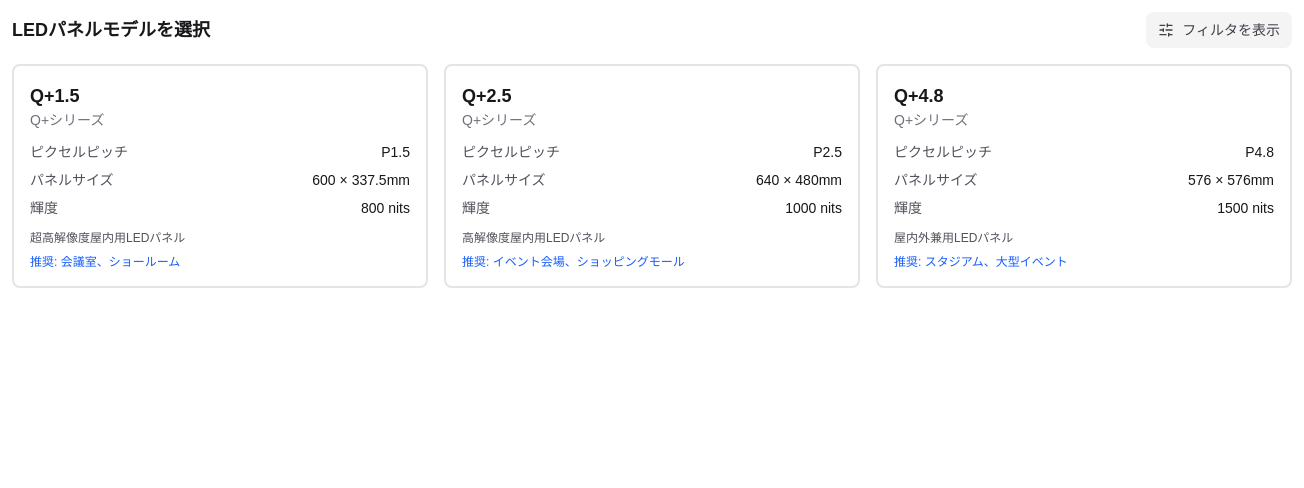
PanelSelector › Search functionality › should filter panels by model number
The image size is (1304, 488).
# Show filters
Click the button "フィルタを表示" at (1219, 30), box 1146,12 -> 1292,48
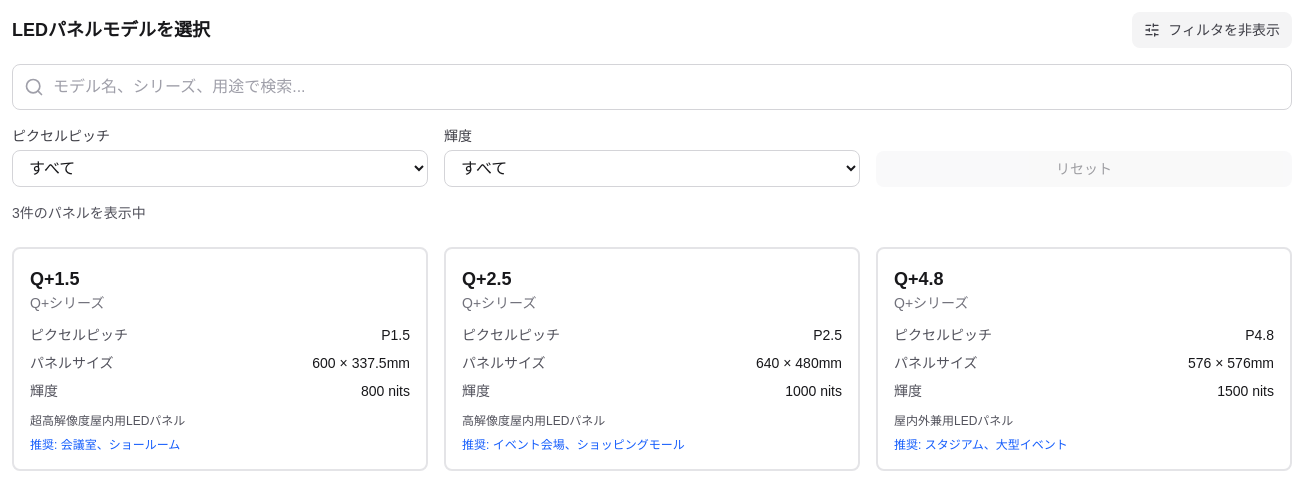
Type "1.5" into the field with placeholder "モデル名、シリーズ、用途で検索..." at (652, 87), box 12,64 -> 1292,110
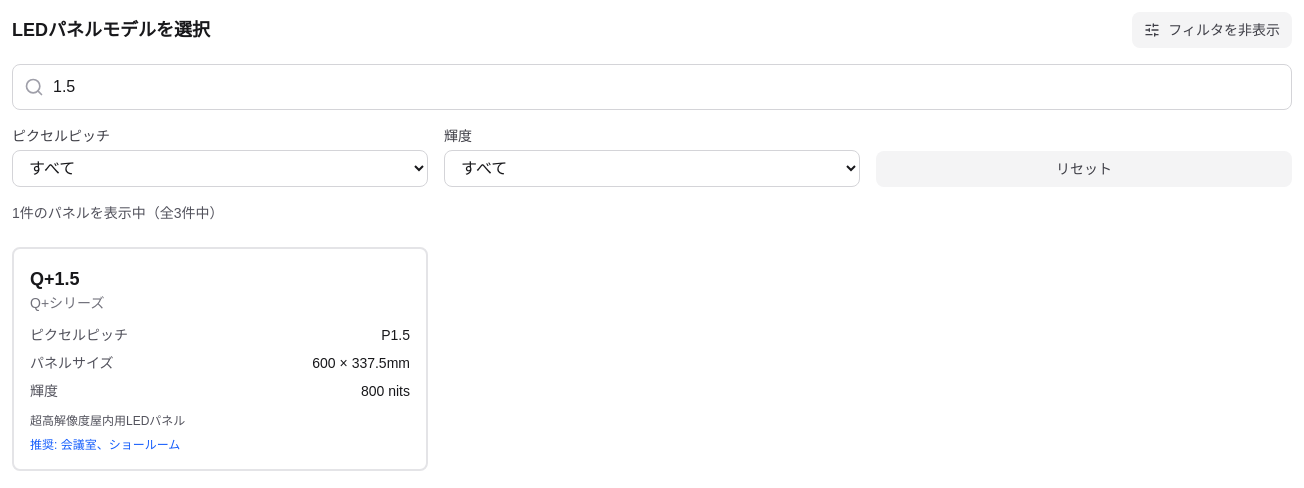
Expected: the heading "Q+1.5" is shown, 30,269 -> 80,289
Expected: the button "Q+2.5" is gone
Expected: the button "Q+4.8" is gone
